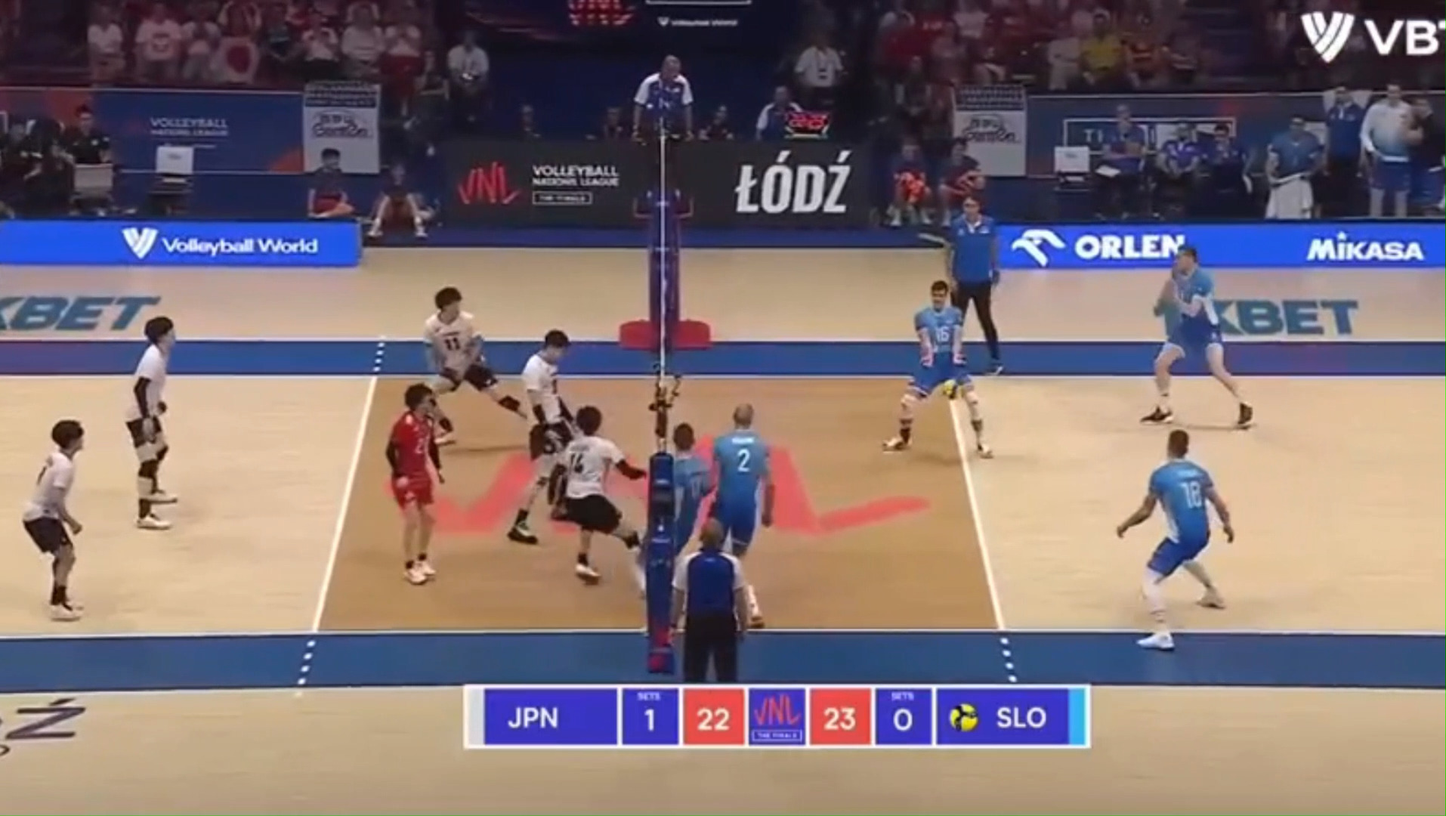ball: (941, 380, 957, 399)
player: (1115, 428, 1234, 651), (1140, 246, 1253, 428), (885, 281, 991, 457), (710, 403, 774, 558), (672, 423, 713, 552)
player 1: (553, 406, 647, 589), (507, 329, 576, 543), (422, 287, 524, 418), (22, 419, 84, 620), (385, 383, 443, 585), (125, 316, 175, 530), (437, 407, 454, 445)
referee: (671, 518, 751, 682), (633, 55, 694, 218), (947, 196, 1002, 372)
